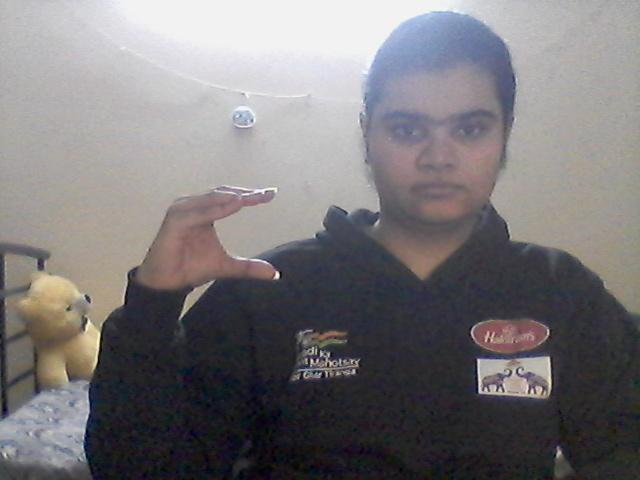no: (120, 169, 289, 305)
